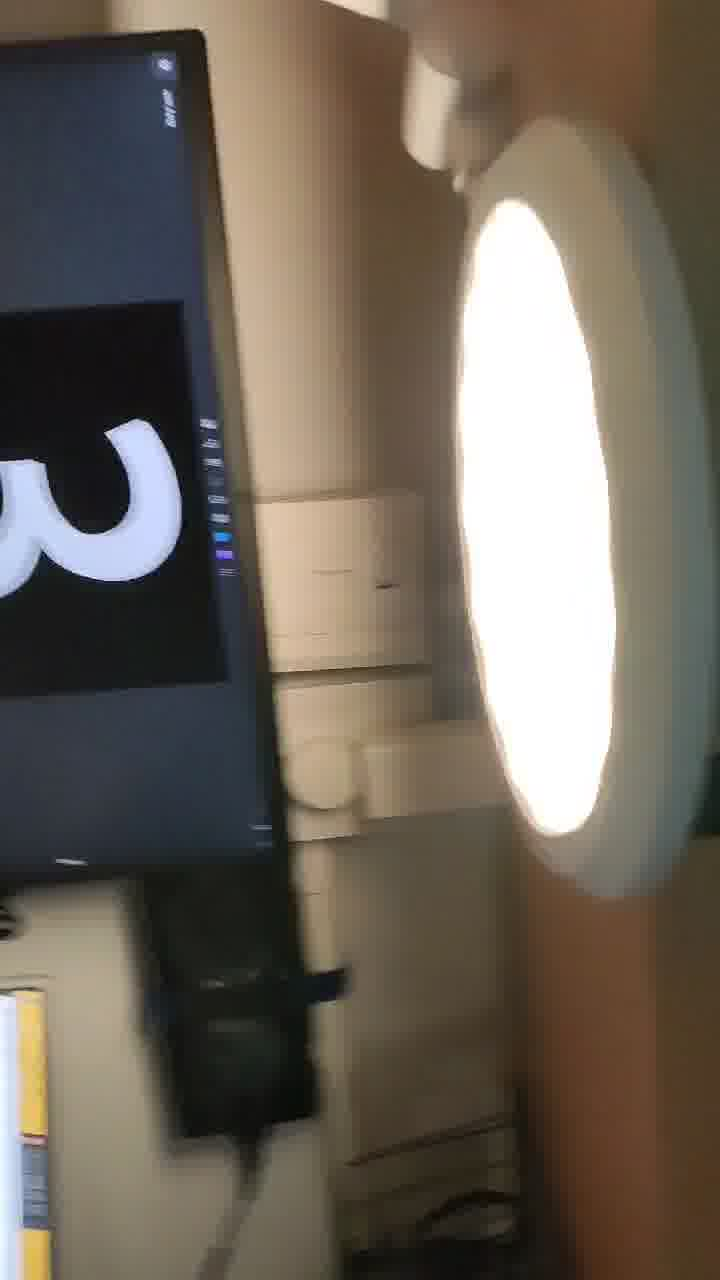three: (1, 292, 205, 623)
